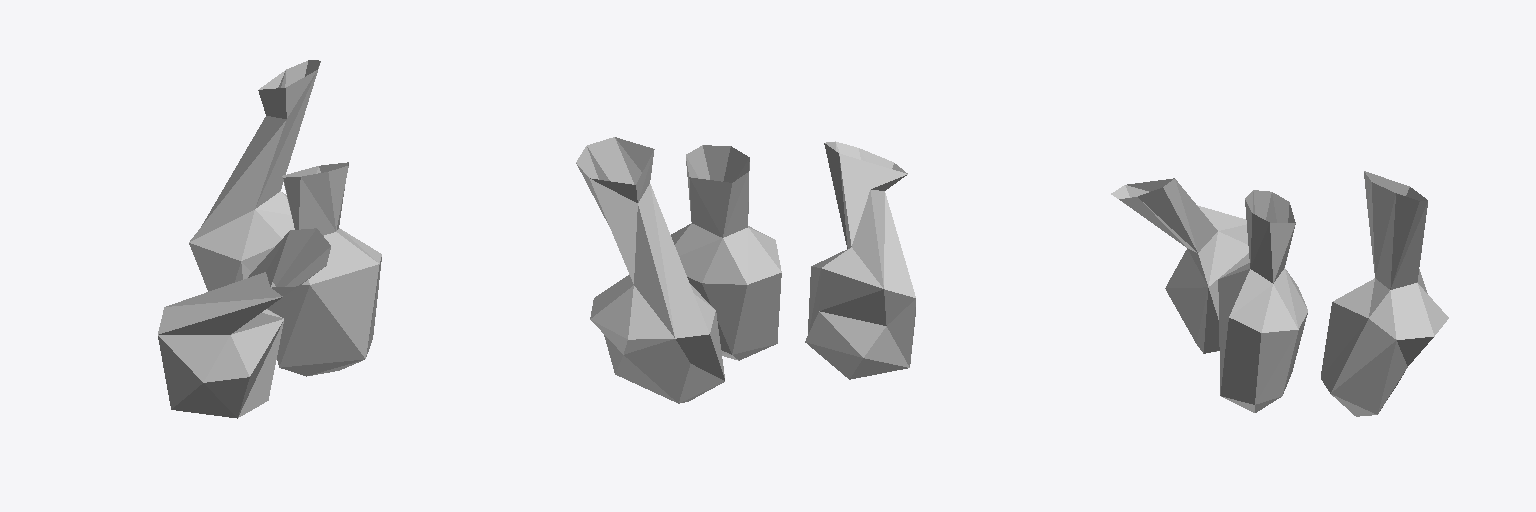
Rendered from coral2_low.obj.
3 views of the same model, side by side, from view 1: azimuth 30°, elevation 25°; view 2: azimuth 150°, elevation 25°; view 3: azimuth 270°, elevation 25° (orthographic).
Parts seen in each view (by area): view 1: Sphere; view 2: Sphere; view 3: Sphere.
Part boxes in pixels (left/top/right/bottom): Sphere: left=158, top=60, right=381, bottom=418; Sphere: left=576, top=137, right=915, bottom=403; Sphere: left=1111, top=171, right=1448, bottom=416.
Bounding box in the file's own units: 4.54 × 4.44 × 5.39.